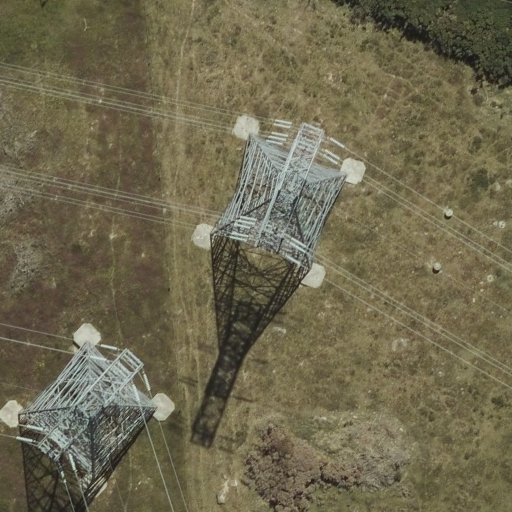TT: (188, 108, 370, 300), (3, 318, 178, 500)
